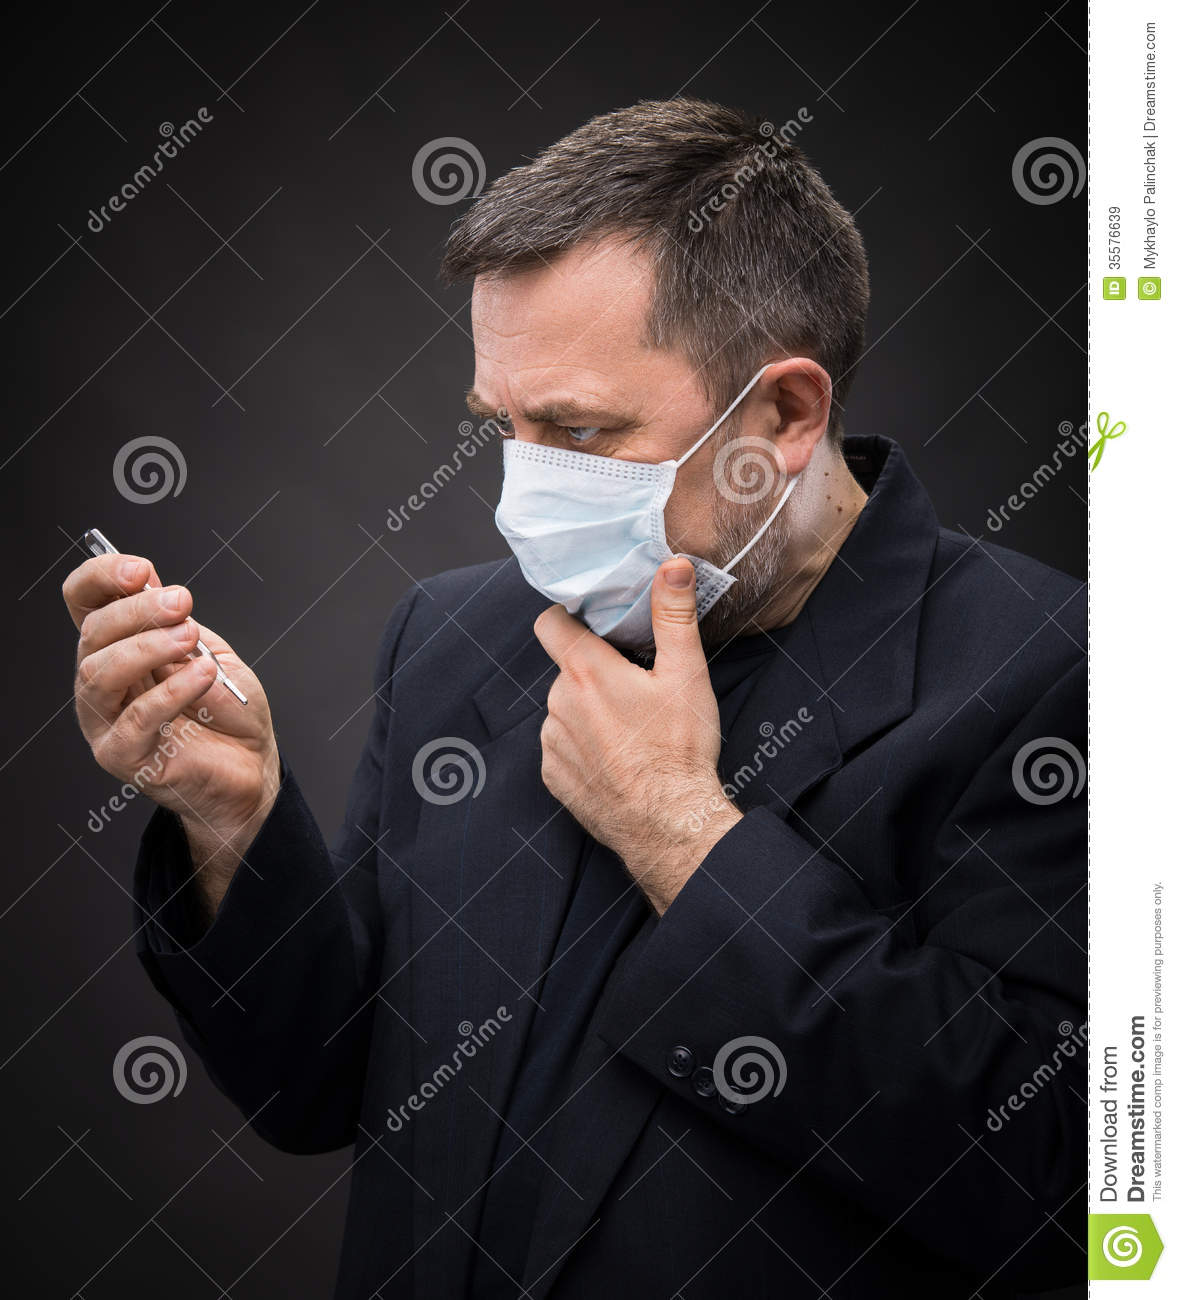mask: (486, 443, 730, 670)
